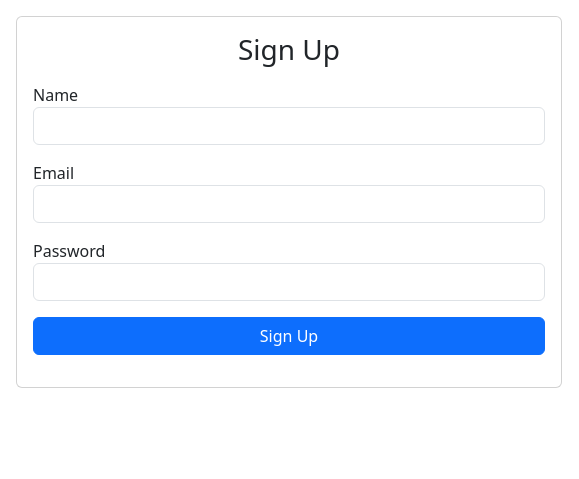
Signup Component › shows an error message if signup fails
This screenshot has width=579, height=479.
# Fill in the form
In the field labelled "Name": x=289, y=126 [33,107,545,145], type "Test User"
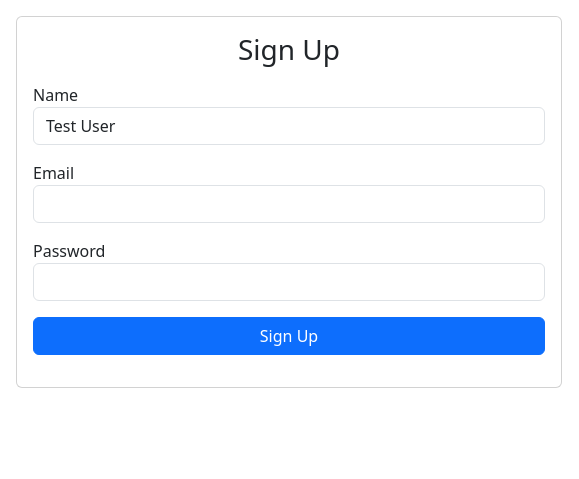
In the field labelled "Email": x=289, y=204 [33,185,545,223], type "test@example.com"
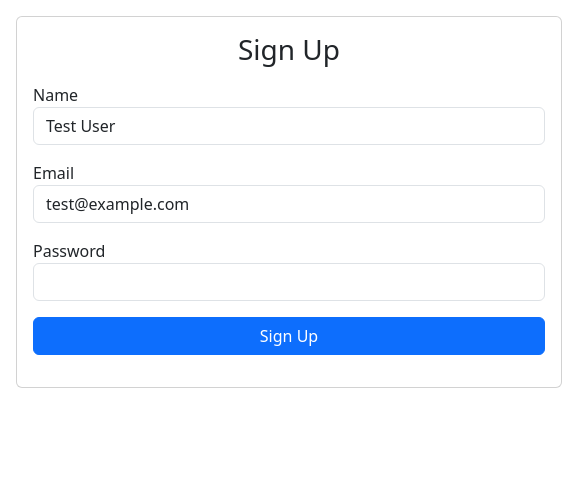
In the password field labelled "Password": x=289, y=282 [33,263,545,301], type "password123"
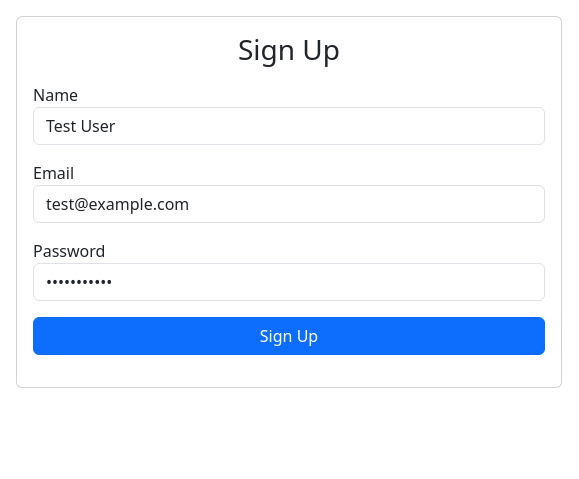
# Submit the form
Click the button "Sign Up": x=289, y=336 [33,317,545,355]
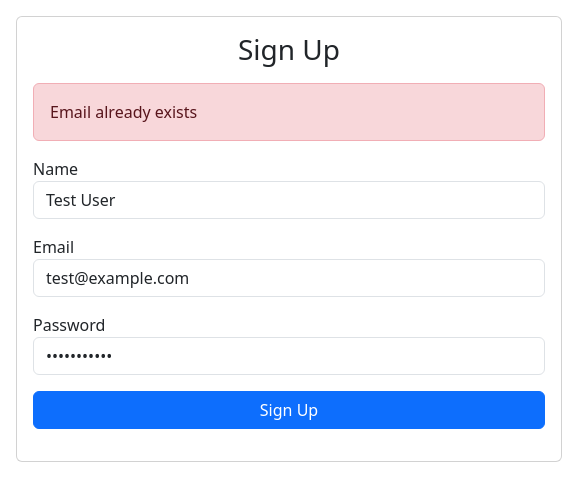
Result: the text "Email already exists" is shown at [33,83,545,141]
